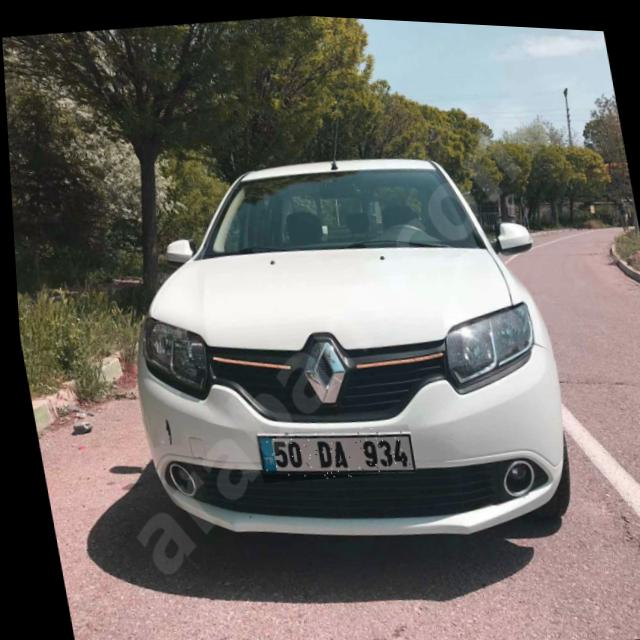license_plate: (248, 413, 411, 486)
